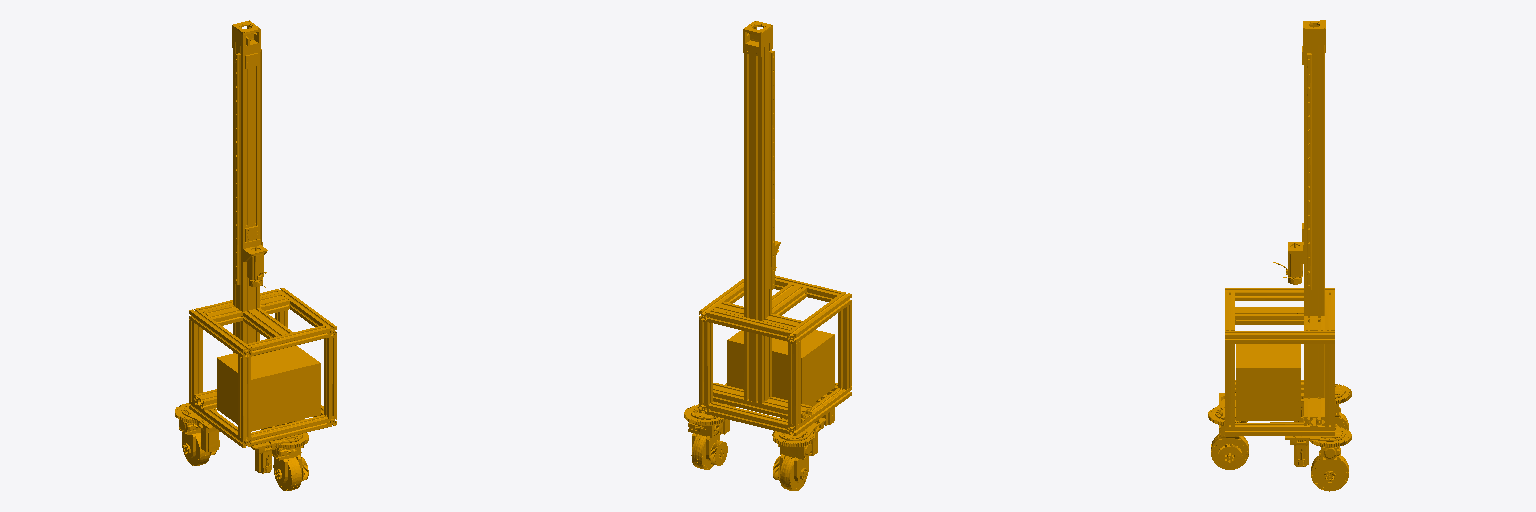
robot.urdf — devkit_base_wheels:
<?xml version="1.0" ?>
<robot xmlns:drake="drake.mit.edu" name="devkit_base_wheels">
  <link name="devkit_base_wheels_body_link">
    <inertial>
      <mass value="7.0537E+01"/>
      <inertia ixx="8.865" ixy="-0.017974" ixz="-0.015034" iyy="8.6956" iyz="-0.60364" izz="2.1038"/>
    </inertial>
    <visual name="visual">
      <origin xyz="0 0 0" rpy="0 0 0"/>
      <geometry>
        <mesh filename="devkit_base_wheels.obj" scale="1.0000E+00 1.0000E+00 1.0000E+00"/>
      </geometry>
    </visual>
    <collision name="collision_0000">
      <origin xyz="0 0 0" rpy="0 0 0"/>
      <geometry>
        <mesh filename="devkit_base_wheels_parts/devkit_base_wheels_convex_piece_000.obj">
          <drake:declare_convex/>
        </mesh>
      </geometry>
    </collision>
    <collision name="collision_0001">
      <origin xyz="0 0 0" rpy="0 0 0"/>
      <geometry>
        <mesh filename="devkit_base_wheels_parts/devkit_base_wheels_convex_piece_001.obj">
          <drake:declare_convex/>
        </mesh>
      </geometry>
    </collision>
    <collision name="collision_0002">
      <origin xyz="0 0 0" rpy="0 0 0"/>
      <geometry>
        <mesh filename="devkit_base_wheels_parts/devkit_base_wheels_convex_piece_002.obj">
          <drake:declare_convex/>
        </mesh>
      </geometry>
    </collision>
    <collision name="collision_0003">
      <origin xyz="0 0 0" rpy="0 0 0"/>
      <geometry>
        <mesh filename="devkit_base_wheels_parts/devkit_base_wheels_convex_piece_003.obj">
          <drake:declare_convex/>
        </mesh>
      </geometry>
    </collision>
    <collision name="collision_0004">
      <origin xyz="0 0 0" rpy="0 0 0"/>
      <geometry>
        <mesh filename="devkit_base_wheels_parts/devkit_base_wheels_convex_piece_004.obj">
          <drake:declare_convex/>
        </mesh>
      </geometry>
    </collision>
    <collision name="collision_0005">
      <origin xyz="0 0 0" rpy="0 0 0"/>
      <geometry>
        <mesh filename="devkit_base_wheels_parts/devkit_base_wheels_convex_piece_005.obj">
          <drake:declare_convex/>
        </mesh>
      </geometry>
    </collision>
    <collision name="collision_0006">
      <origin xyz="0 0 0" rpy="0 0 0"/>
      <geometry>
        <mesh filename="devkit_base_wheels_parts/devkit_base_wheels_convex_piece_006.obj">
          <drake:declare_convex/>
        </mesh>
      </geometry>
    </collision>
    <collision name="collision_0007">
      <origin xyz="0 0 0" rpy="0 0 0"/>
      <geometry>
        <mesh filename="devkit_base_wheels_parts/devkit_base_wheels_convex_piece_007.obj">
          <drake:declare_convex/>
        </mesh>
      </geometry>
    </collision>
    <collision name="collision_0008">
      <origin xyz="0 0 0" rpy="0 0 0"/>
      <geometry>
        <mesh filename="devkit_base_wheels_parts/devkit_base_wheels_convex_piece_008.obj">
          <drake:declare_convex/>
        </mesh>
      </geometry>
    </collision>
    <collision name="collision_0009">
      <origin xyz="0 0 0" rpy="0 0 0"/>
      <geometry>
        <mesh filename="devkit_base_wheels_parts/devkit_base_wheels_convex_piece_009.obj">
          <drake:declare_convex/>
        </mesh>
      </geometry>
    </collision>
    <collision name="collision_0010">
      <origin xyz="0 0 0" rpy="0 0 0"/>
      <geometry>
        <mesh filename="devkit_base_wheels_parts/devkit_base_wheels_convex_piece_010.obj">
          <drake:declare_convex/>
        </mesh>
      </geometry>
    </collision>
    <collision name="collision_0011">
      <origin xyz="0 0 0" rpy="0 0 0"/>
      <geometry>
        <mesh filename="devkit_base_wheels_parts/devkit_base_wheels_convex_piece_011.obj">
          <drake:declare_convex/>
        </mesh>
      </geometry>
    </collision>
    <collision name="collision_0012">
      <origin xyz="0 0 0" rpy="0 0 0"/>
      <geometry>
        <mesh filename="devkit_base_wheels_parts/devkit_base_wheels_convex_piece_012.obj">
          <drake:declare_convex/>
        </mesh>
      </geometry>
    </collision>
    <collision name="collision_0013">
      <origin xyz="0 0 0" rpy="0 0 0"/>
      <geometry>
        <mesh filename="devkit_base_wheels_parts/devkit_base_wheels_convex_piece_013.obj">
          <drake:declare_convex/>
        </mesh>
      </geometry>
    </collision>
    <collision name="collision_0014">
      <origin xyz="0 0 0" rpy="0 0 0"/>
      <geometry>
        <mesh filename="devkit_base_wheels_parts/devkit_base_wheels_convex_piece_014.obj">
          <drake:declare_convex/>
        </mesh>
      </geometry>
    </collision>
    <collision name="collision_0015">
      <origin xyz="0 0 0" rpy="0 0 0"/>
      <geometry>
        <mesh filename="devkit_base_wheels_parts/devkit_base_wheels_convex_piece_015.obj">
          <drake:declare_convex/>
        </mesh>
      </geometry>
    </collision>
    <collision name="collision_0016">
      <origin xyz="0 0 0" rpy="0 0 0"/>
      <geometry>
        <mesh filename="devkit_base_wheels_parts/devkit_base_wheels_convex_piece_016.obj">
          <drake:declare_convex/>
        </mesh>
      </geometry>
    </collision>
    <collision name="collision_0017">
      <origin xyz="0 0 0" rpy="0 0 0"/>
      <geometry>
        <mesh filename="devkit_base_wheels_parts/devkit_base_wheels_convex_piece_017.obj">
          <drake:declare_convex/>
        </mesh>
      </geometry>
    </collision>
    <collision name="collision_0018">
      <origin xyz="0 0 0" rpy="0 0 0"/>
      <geometry>
        <mesh filename="devkit_base_wheels_parts/devkit_base_wheels_convex_piece_018.obj">
          <drake:declare_convex/>
        </mesh>
      </geometry>
    </collision>
    <collision name="collision_0019">
      <origin xyz="0 0 0" rpy="0 0 0"/>
      <geometry>
        <mesh filename="devkit_base_wheels_parts/devkit_base_wheels_convex_piece_019.obj">
          <drake:declare_convex/>
        </mesh>
      </geometry>
    </collision>
    <collision name="collision_0020">
      <origin xyz="0 0 0" rpy="0 0 0"/>
      <geometry>
        <mesh filename="devkit_base_wheels_parts/devkit_base_wheels_convex_piece_020.obj">
          <drake:declare_convex/>
        </mesh>
      </geometry>
    </collision>
    <collision name="collision_0021">
      <origin xyz="0 0 0" rpy="0 0 0"/>
      <geometry>
        <mesh filename="devkit_base_wheels_parts/devkit_base_wheels_convex_piece_021.obj">
          <drake:declare_convex/>
        </mesh>
      </geometry>
    </collision>
    <collision name="collision_0022">
      <origin xyz="0 0 0" rpy="0 0 0"/>
      <geometry>
        <mesh filename="devkit_base_wheels_parts/devkit_base_wheels_convex_piece_022.obj">
          <drake:declare_convex/>
        </mesh>
      </geometry>
    </collision>
    <collision name="collision_0023">
      <origin xyz="0 0 0" rpy="0 0 0"/>
      <geometry>
        <mesh filename="devkit_base_wheels_parts/devkit_base_wheels_convex_piece_023.obj">
          <drake:declare_convex/>
        </mesh>
      </geometry>
    </collision>
    <collision name="collision_0024">
      <origin xyz="0 0 0" rpy="0 0 0"/>
      <geometry>
        <mesh filename="devkit_base_wheels_parts/devkit_base_wheels_convex_piece_024.obj">
          <drake:declare_convex/>
        </mesh>
      </geometry>
    </collision>
    <collision name="collision_0025">
      <origin xyz="0 0 0" rpy="0 0 0"/>
      <geometry>
        <mesh filename="devkit_base_wheels_parts/devkit_base_wheels_convex_piece_025.obj">
          <drake:declare_convex/>
        </mesh>
      </geometry>
    </collision>
    <collision name="collision_0026">
      <origin xyz="0 0 0" rpy="0 0 0"/>
      <geometry>
        <mesh filename="devkit_base_wheels_parts/devkit_base_wheels_convex_piece_026.obj">
          <drake:declare_convex/>
        </mesh>
      </geometry>
    </collision>
    <collision name="collision_0027">
      <origin xyz="0 0 0" rpy="0 0 0"/>
      <geometry>
        <mesh filename="devkit_base_wheels_parts/devkit_base_wheels_convex_piece_027.obj">
          <drake:declare_convex/>
        </mesh>
      </geometry>
    </collision>
    <collision name="collision_0028">
      <origin xyz="0 0 0" rpy="0 0 0"/>
      <geometry>
        <mesh filename="devkit_base_wheels_parts/devkit_base_wheels_convex_piece_028.obj">
          <drake:declare_convex/>
        </mesh>
      </geometry>
    </collision>
    <collision name="collision_0029">
      <origin xyz="0 0 0" rpy="0 0 0"/>
      <geometry>
        <mesh filename="devkit_base_wheels_parts/devkit_base_wheels_convex_piece_029.obj">
          <drake:declare_convex/>
        </mesh>
      </geometry>
    </collision>
    <collision name="collision_0030">
      <origin xyz="0 0 0" rpy="0 0 0"/>
      <geometry>
        <mesh filename="devkit_base_wheels_parts/devkit_base_wheels_convex_piece_030.obj">
          <drake:declare_convex/>
        </mesh>
      </geometry>
    </collision>
    <collision name="collision_0031">
      <origin xyz="0 0 0" rpy="0 0 0"/>
      <geometry>
        <mesh filename="devkit_base_wheels_parts/devkit_base_wheels_convex_piece_031.obj">
          <drake:declare_convex/>
        </mesh>
      </geometry>
    </collision>
    <collision name="collision_0032">
      <origin xyz="0 0 0" rpy="0 0 0"/>
      <geometry>
        <mesh filename="devkit_base_wheels_parts/devkit_base_wheels_convex_piece_032.obj">
          <drake:declare_convex/>
        </mesh>
      </geometry>
    </collision>
    <collision name="collision_0033">
      <origin xyz="0 0 0" rpy="0 0 0"/>
      <geometry>
        <mesh filename="devkit_base_wheels_parts/devkit_base_wheels_convex_piece_033.obj">
          <drake:declare_convex/>
        </mesh>
      </geometry>
    </collision>
    <collision name="collision_0034">
      <origin xyz="0 0 0" rpy="0 0 0"/>
      <geometry>
        <mesh filename="devkit_base_wheels_parts/devkit_base_wheels_convex_piece_034.obj">
          <drake:declare_convex/>
        </mesh>
      </geometry>
    </collision>
    <collision name="collision_0035">
      <origin xyz="0 0 0" rpy="0 0 0"/>
      <geometry>
        <mesh filename="devkit_base_wheels_parts/devkit_base_wheels_convex_piece_035.obj">
          <drake:declare_convex/>
        </mesh>
      </geometry>
    </collision>
    <collision name="collision_0036">
      <origin xyz="0 0 0" rpy="0 0 0"/>
      <geometry>
        <mesh filename="devkit_base_wheels_parts/devkit_base_wheels_convex_piece_036.obj">
          <drake:declare_convex/>
        </mesh>
      </geometry>
    </collision>
    <collision name="collision_0037">
      <origin xyz="0 0 0" rpy="0 0 0"/>
      <geometry>
        <mesh filename="devkit_base_wheels_parts/devkit_base_wheels_convex_piece_037.obj">
          <drake:declare_convex/>
        </mesh>
      </geometry>
    </collision>
    <collision name="collision_0038">
      <origin xyz="0 0 0" rpy="0 0 0"/>
      <geometry>
        <mesh filename="devkit_base_wheels_parts/devkit_base_wheels_convex_piece_038.obj">
          <drake:declare_convex/>
        </mesh>
      </geometry>
    </collision>
    <collision name="collision_0039">
      <origin xyz="0 0 0" rpy="0 0 0"/>
      <geometry>
        <mesh filename="devkit_base_wheels_parts/devkit_base_wheels_convex_piece_039.obj">
          <drake:declare_convex/>
        </mesh>
      </geometry>
    </collision>
    <collision name="collision_0040">
      <origin xyz="0 0 0" rpy="0 0 0"/>
      <geometry>
        <mesh filename="devkit_base_wheels_parts/devkit_base_wheels_convex_piece_040.obj">
          <drake:declare_convex/>
        </mesh>
      </geometry>
    </collision>
    <collision name="collision_0041">
      <origin xyz="0 0 0" rpy="0 0 0"/>
      <geometry>
        <mesh filename="devkit_base_wheels_parts/devkit_base_wheels_convex_piece_041.obj">
          <drake:declare_convex/>
        </mesh>
      </geometry>
    </collision>
    <collision name="collision_0042">
      <origin xyz="0 0 0" rpy="0 0 0"/>
      <geometry>
        <mesh filename="devkit_base_wheels_parts/devkit_base_wheels_convex_piece_042.obj">
          <drake:declare_convex/>
        </mesh>
      </geometry>
    </collision>
    <collision name="collision_0043">
      <origin xyz="0 0 0" rpy="0 0 0"/>
      <geometry>
        <mesh filename="devkit_base_wheels_parts/devkit_base_wheels_convex_piece_043.obj">
          <drake:declare_convex/>
        </mesh>
      </geometry>
    </collision>
    <collision name="collision_0044">
      <origin xyz="0 0 0" rpy="0 0 0"/>
      <geometry>
        <mesh filename="devkit_base_wheels_parts/devkit_base_wheels_convex_piece_044.obj">
          <drake:declare_convex/>
        </mesh>
      </geometry>
    </collision>
    <collision name="collision_0045">
      <origin xyz="0 0 0" rpy="0 0 0"/>
      <geometry>
        <mesh filename="devkit_base_wheels_parts/devkit_base_wheels_convex_piece_045.obj">
          <drake:declare_convex/>
        </mesh>
      </geometry>
    </collision>
    <collision name="collision_0046">
      <origin xyz="0 0 0" rpy="0 0 0"/>
      <geometry>
        <mesh filename="devkit_base_wheels_parts/devkit_base_wheels_convex_piece_046.obj">
          <drake:declare_convex/>
        </mesh>
      </geometry>
    </collision>
    <collision name="collision_0047">
      <origin xyz="0 0 0" rpy="0 0 0"/>
      <geometry>
        <mesh filename="devkit_base_wheels_parts/devkit_base_wheels_convex_piece_047.obj">
          <drake:declare_convex/>
        </mesh>
      </geometry>
    </collision>
    <collision name="collision_0048">
      <origin xyz="0 0 0" rpy="0 0 0"/>
      <geometry>
        <mesh filename="devkit_base_wheels_parts/devkit_base_wheels_convex_piece_048.obj">
          <drake:declare_convex/>
        </mesh>
      </geometry>
    </collision>
    <collision name="collision_0049">
      <origin xyz="0 0 0" rpy="0 0 0"/>
      <geometry>
        <mesh filename="devkit_base_wheels_parts/devkit_base_wheels_convex_piece_049.obj">
          <drake:declare_convex/>
        </mesh>
      </geometry>
    </collision>
    <collision name="collision_0050">
      <origin xyz="0 0 0" rpy="0 0 0"/>
      <geometry>
        <mesh filename="devkit_base_wheels_parts/devkit_base_wheels_convex_piece_050.obj">
          <drake:declare_convex/>
        </mesh>
      </geometry>
    </collision>
    <collision name="collision_0051">
      <origin xyz="0 0 0" rpy="0 0 0"/>
      <geometry>
        <mesh filename="devkit_base_wheels_parts/devkit_base_wheels_convex_piece_051.obj">
          <drake:declare_convex/>
        </mesh>
      </geometry>
    </collision>
    <collision name="collision_0052">
      <origin xyz="0 0 0" rpy="0 0 0"/>
      <geometry>
        <mesh filename="devkit_base_wheels_parts/devkit_base_wheels_convex_piece_052.obj">
          <drake:declare_convex/>
        </mesh>
      </geometry>
    </collision>
    <collision name="collision_0053">
      <origin xyz="0 0 0" rpy="0 0 0"/>
      <geometry>
        <mesh filename="devkit_base_wheels_parts/devkit_base_wheels_convex_piece_053.obj">
          <drake:declare_convex/>
        </mesh>
      </geometry>
    </collision>
    <collision name="collision_0054">
      <origin xyz="0 0 0" rpy="0 0 0"/>
      <geometry>
        <mesh filename="devkit_base_wheels_parts/devkit_base_wheels_convex_piece_054.obj">
          <drake:declare_convex/>
        </mesh>
      </geometry>
    </collision>
    <collision name="collision_0055">
      <origin xyz="0 0 0" rpy="0 0 0"/>
      <geometry>
        <mesh filename="devkit_base_wheels_parts/devkit_base_wheels_convex_piece_055.obj">
          <drake:declare_convex/>
        </mesh>
      </geometry>
    </collision>
    <collision name="collision_0056">
      <origin xyz="0 0 0" rpy="0 0 0"/>
      <geometry>
        <mesh filename="devkit_base_wheels_parts/devkit_base_wheels_convex_piece_056.obj">
          <drake:declare_convex/>
        </mesh>
      </geometry>
    </collision>
    <collision name="collision_0057">
      <origin xyz="0 0 0" rpy="0 0 0"/>
      <geometry>
        <mesh filename="devkit_base_wheels_parts/devkit_base_wheels_convex_piece_057.obj">
          <drake:declare_convex/>
        </mesh>
      </geometry>
    </collision>
    <collision name="collision_0058">
      <origin xyz="0 0 0" rpy="0 0 0"/>
      <geometry>
        <mesh filename="devkit_base_wheels_parts/devkit_base_wheels_convex_piece_058.obj">
          <drake:declare_convex/>
        </mesh>
      </geometry>
    </collision>
    <collision name="collision_0059">
      <origin xyz="0 0 0" rpy="0 0 0"/>
      <geometry>
        <mesh filename="devkit_base_wheels_parts/devkit_base_wheels_convex_piece_059.obj">
          <drake:declare_convex/>
        </mesh>
      </geometry>
    </collision>
    <collision name="collision_0060">
      <origin xyz="0 0 0" rpy="0 0 0"/>
      <geometry>
        <mesh filename="devkit_base_wheels_parts/devkit_base_wheels_convex_piece_060.obj">
          <drake:declare_convex/>
        </mesh>
      </geometry>
    </collision>
    <collision name="collision_0061">
      <origin xyz="0 0 0" rpy="0 0 0"/>
      <geometry>
        <mesh filename="devkit_base_wheels_parts/devkit_base_wheels_convex_piece_061.obj">
          <drake:declare_convex/>
        </mesh>
      </geometry>
    </collision>
    <collision name="collision_0062">
      <origin xyz="0 0 0" rpy="0 0 0"/>
      <geometry>
        <mesh filename="devkit_base_wheels_parts/devkit_base_wheels_convex_piece_062.obj">
          <drake:declare_convex/>
        </mesh>
      </geometry>
    </collision>
    <collision name="collision_0063">
      <origin xyz="0 0 0" rpy="0 0 0"/>
      <geometry>
        <mesh filename="devkit_base_wheels_parts/devkit_base_wheels_convex_piece_063.obj">
          <drake:declare_convex/>
        </mesh>
      </geometry>
    </collision>
  </link>
</robot>

--- Facts derived from the render (not from the file) ---
3 views of the same robot in one strip: view 1: azimuth 30°, elevation 25°; view 2: azimuth 150°, elevation 25°; view 3: azimuth 270°, elevation 25° (orthographic).
Model devkit_base_wheels with 1 links and 0 joints (none), rooted at devkit_base_wheels_body_link, posed every joint at zero.
Visible links, largest first — view 1: devkit_base_wheels_body_link; view 2: devkit_base_wheels_body_link; view 3: devkit_base_wheels_body_link.
Boxes of the visible links, x1=… form: devkit_base_wheels_body_link: x1=175, y1=20, x2=336, y2=490; devkit_base_wheels_body_link: x1=684, y1=21, x2=851, y2=490; devkit_base_wheels_body_link: x1=1208, y1=20, x2=1351, y2=491.
Size in the robot's own frame: 0.558 by 0.5528 by 1.88 metres.
1 mesh visuals loaded from 1 distinct referenced files (1 OBJ).